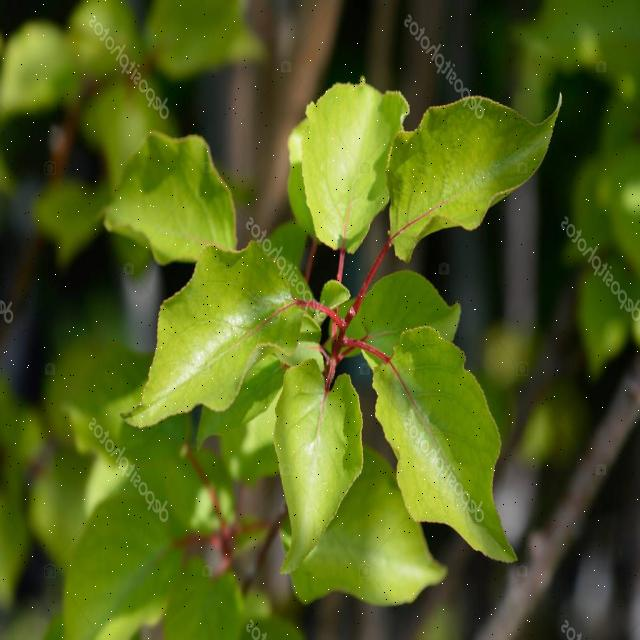Yaprak: (128, 242, 311, 426), (374, 327, 516, 560), (386, 97, 559, 260), (292, 448, 447, 604), (289, 78, 409, 253), (274, 361, 363, 571), (105, 132, 237, 263), (348, 270, 459, 355)
